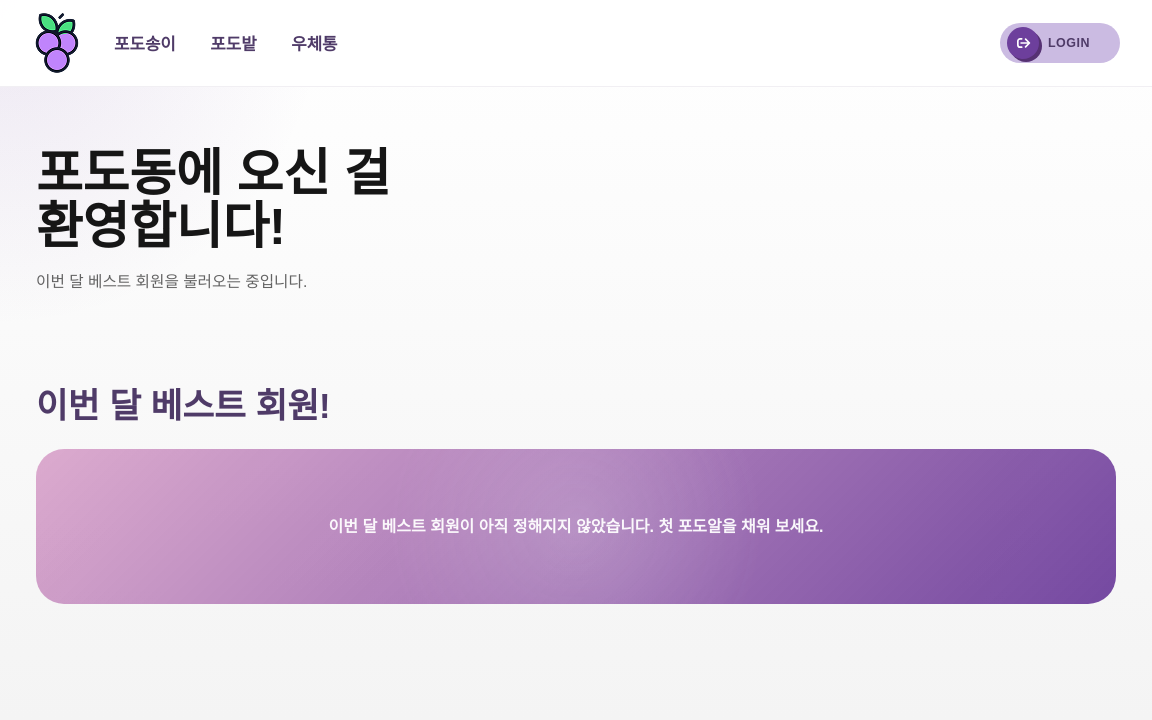
Test case: moves to the login page when the header auth link is clicked
The width and height of the screenshot is (1152, 720).
Click the link with aria-label "로그인": click(1060, 43) [1000,23,1120,63]
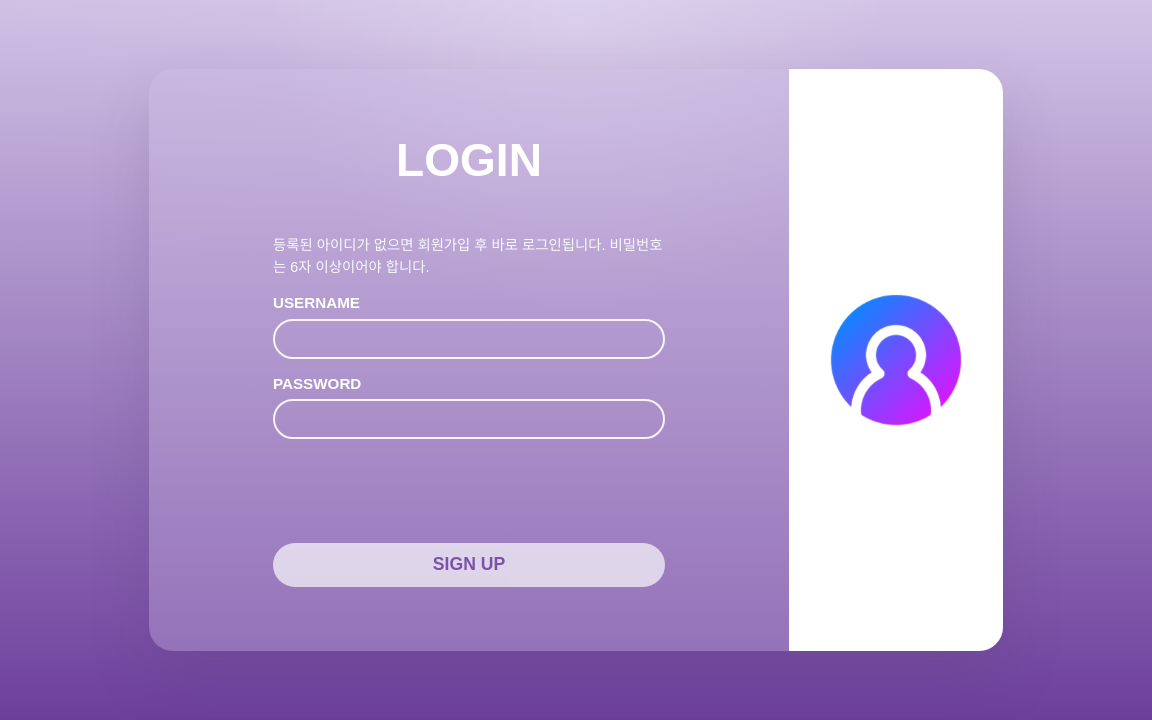
Expected: the heading "LOGIN" is shown, [396,134,542,186]
Result: the field labelled "USERNAME" is shown at [273,319,665,359]
